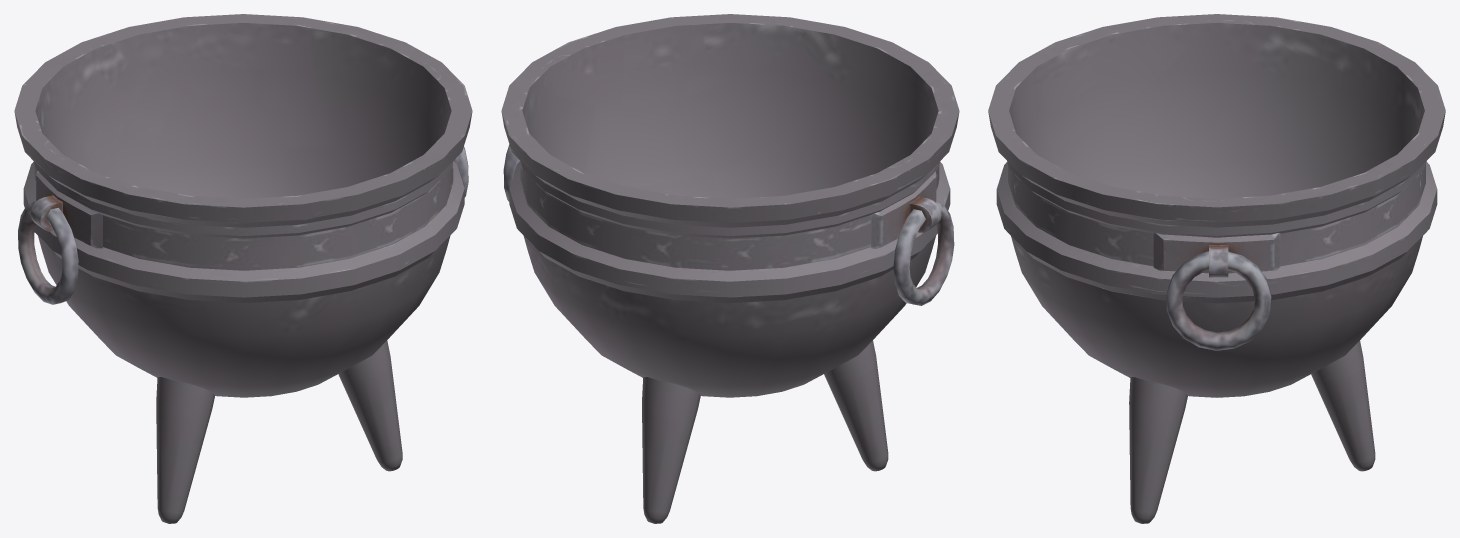
File: cauldron.glb
3 renders of one model, left to right at view 1: azimuth 30°, elevation 25°; view 2: azimuth 150°, elevation 25°; view 3: azimuth 270°, elevation 25°, orthographic.
Visible parts, largest first — view 1: Cauldron; view 2: Cauldron; view 3: Cauldron.
Part boxes in pixels (x1,y1,x2,y2): Cauldron: [14, 14, 472, 523]; Cauldron: [501, 14, 959, 523]; Cauldron: [988, 14, 1445, 523].
Size of the model in its own units: 0.9891 by 0.8155 by 0.944.
1 material, 1 textured.
